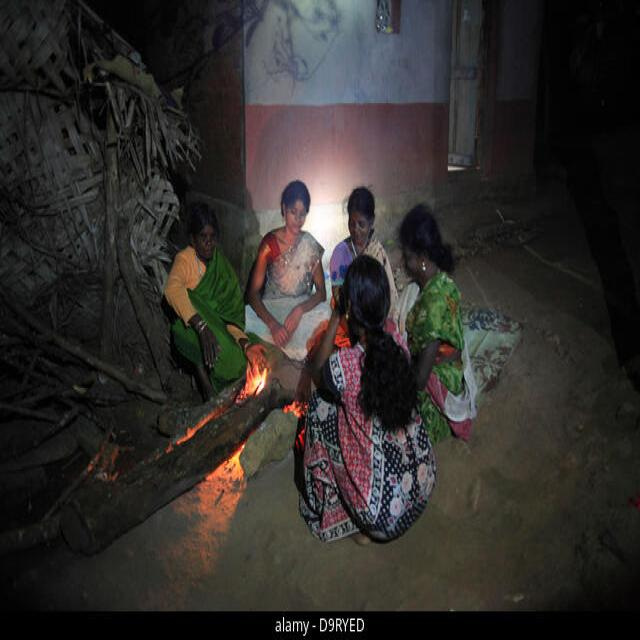fire: (165, 402, 230, 454), (236, 353, 268, 404), (214, 442, 245, 482)
